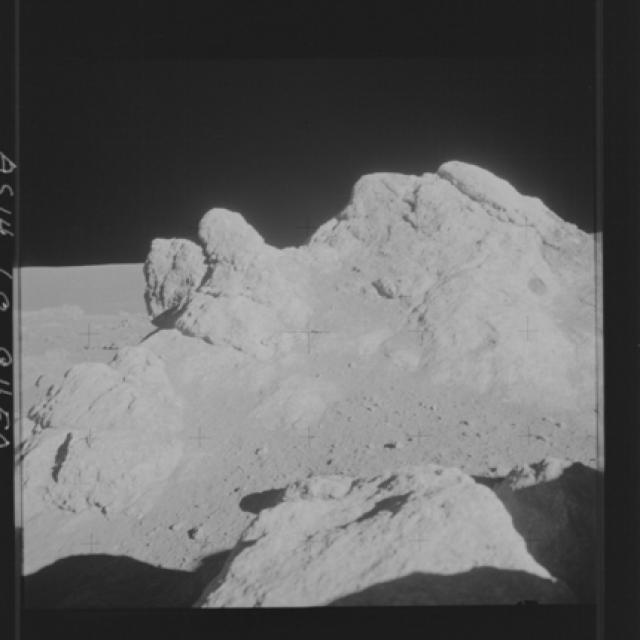rock: (122, 155, 614, 436), (214, 461, 561, 638), (0, 318, 216, 559), (483, 450, 623, 540)
